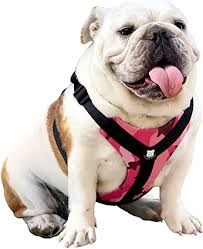Bulldog: (1, 1, 202, 241)
